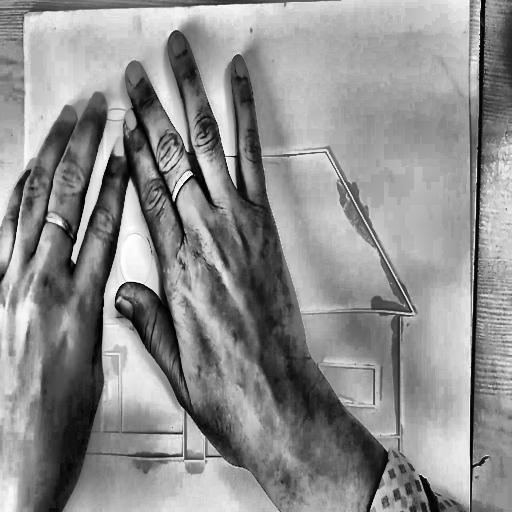house: (36, 64, 421, 475)
top_left: (22, 10, 29, 21)
